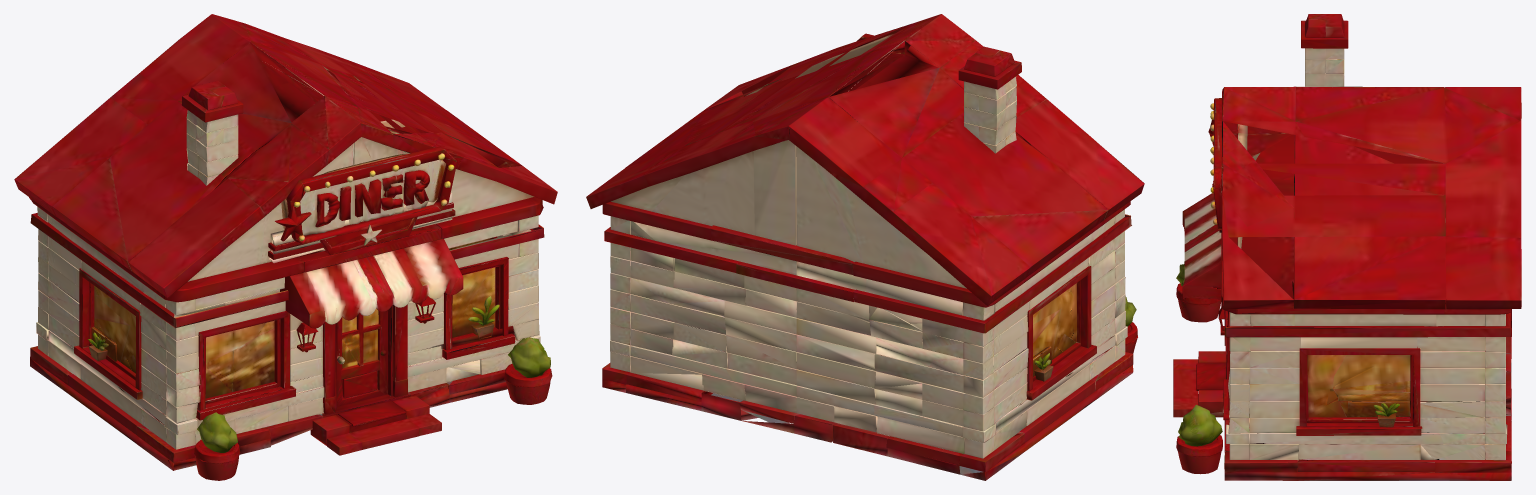
Rendered from diner.glb.
3 views of the same model, side by side, from view 1: azimuth 30°, elevation 25°; view 2: azimuth 150°, elevation 25°; view 3: azimuth 270°, elevation 25° (orthographic). The views are drawn at different scales.
Visible parts, largest first — view 1: geometry_0; view 2: geometry_0; view 3: geometry_0.
Part boxes in pixels (left/top/right/bottom): geometry_0: left=14, top=14, right=557, bottom=480; geometry_0: left=586, top=14, right=1144, bottom=480; geometry_0: left=1173, top=14, right=1521, bottom=480.
Size of the model in its own units: 0.9492 by 0.7432 by 0.7266.
Materials: 1 (1 with a texture image).
